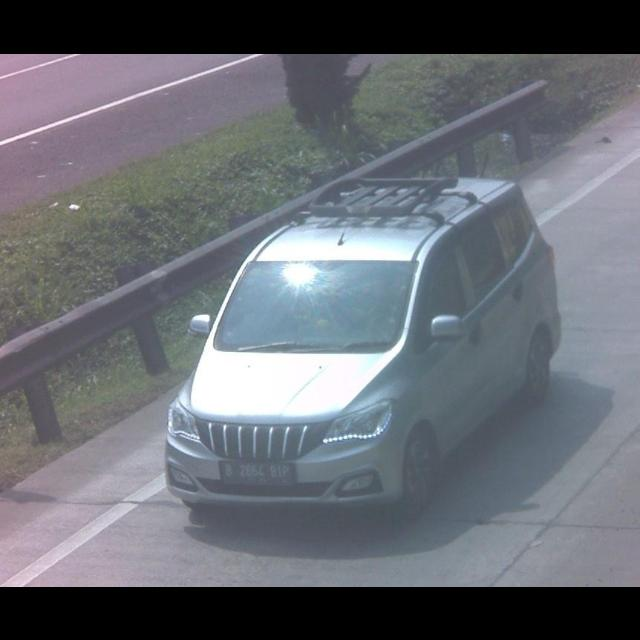plate: (219, 457, 295, 483)
